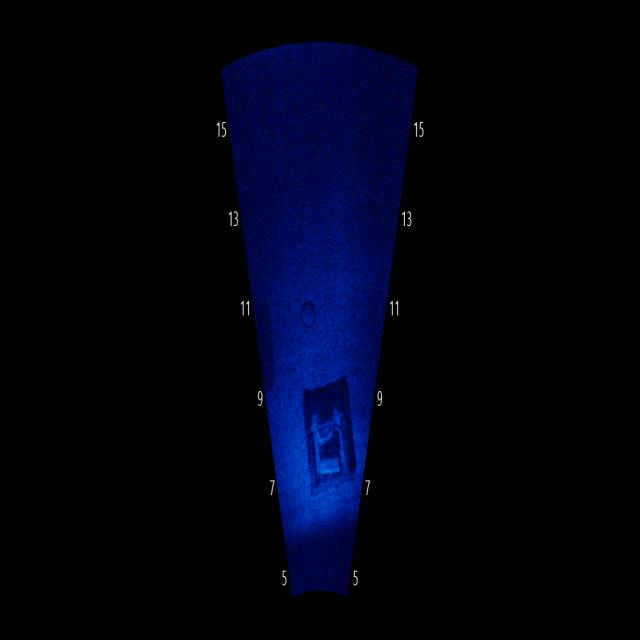square: (293, 376, 365, 514), (253, 291, 280, 398)
